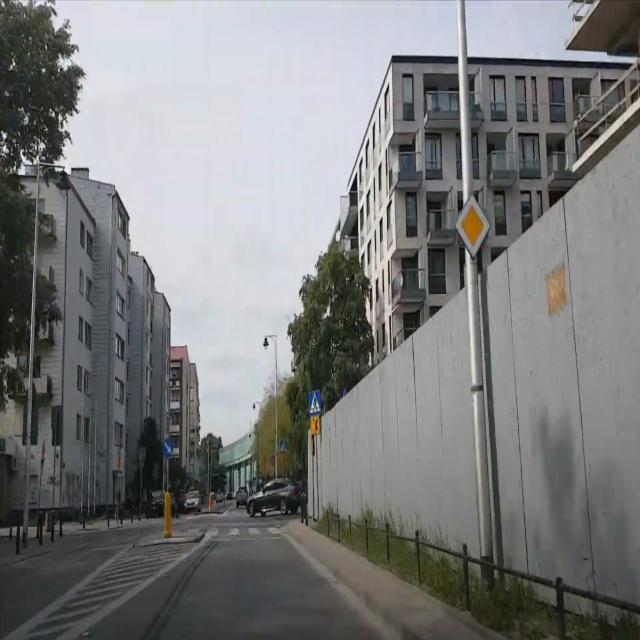Droga z pierwszenstwem: (454, 196, 492, 258)
Przejscie dla pieszych: (309, 390, 321, 411)
